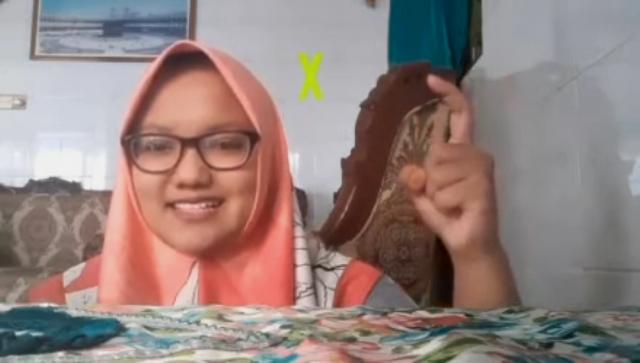X: (398, 68, 508, 254)
